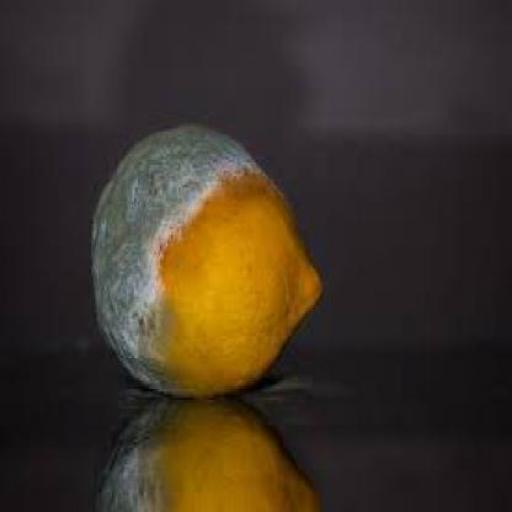biodegradable: (89, 120, 322, 401), (93, 394, 321, 509)
